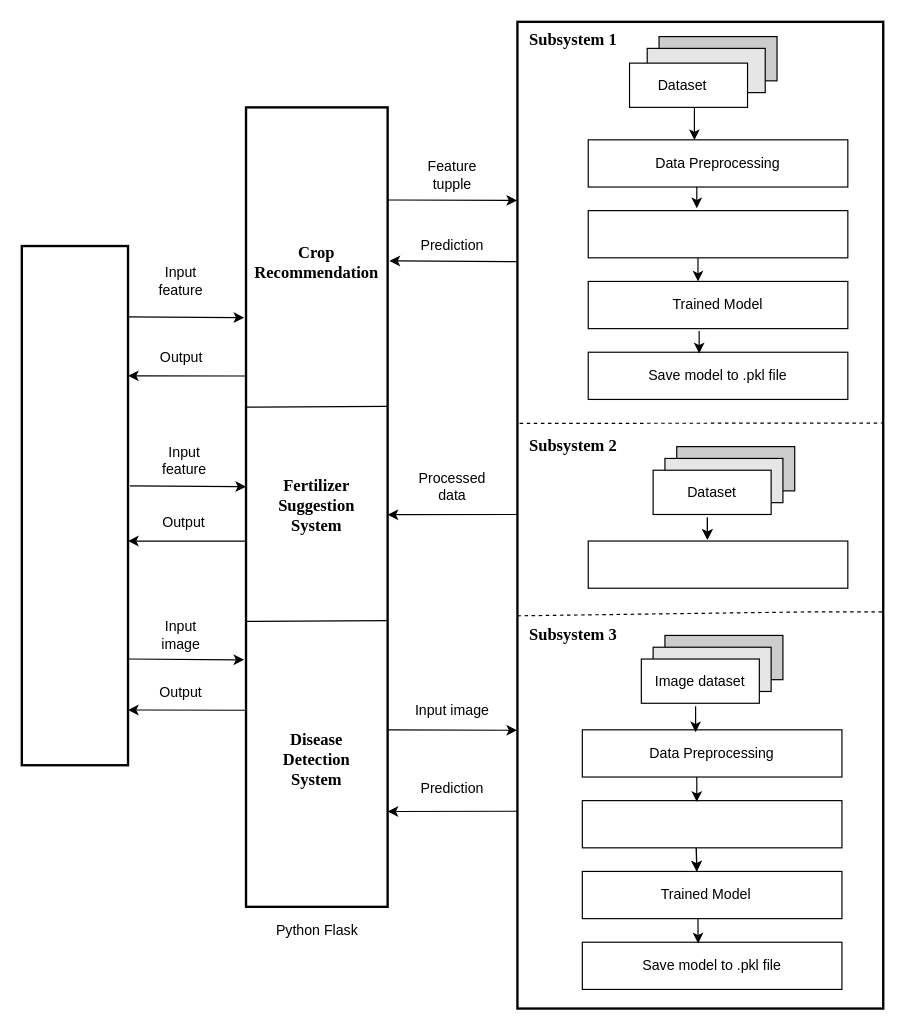
Some shapes in this 905 by 1030 pixel diagram are drawn without their labels. Each missing label, with the centre of its shape:
"Data Processed" belongs at (717,564).
"Deep Learning Algorithm" belongs at (711,823).
"Frontend website" belongs at (74,505).
"ML Algorithms" belongs at (717,233).
